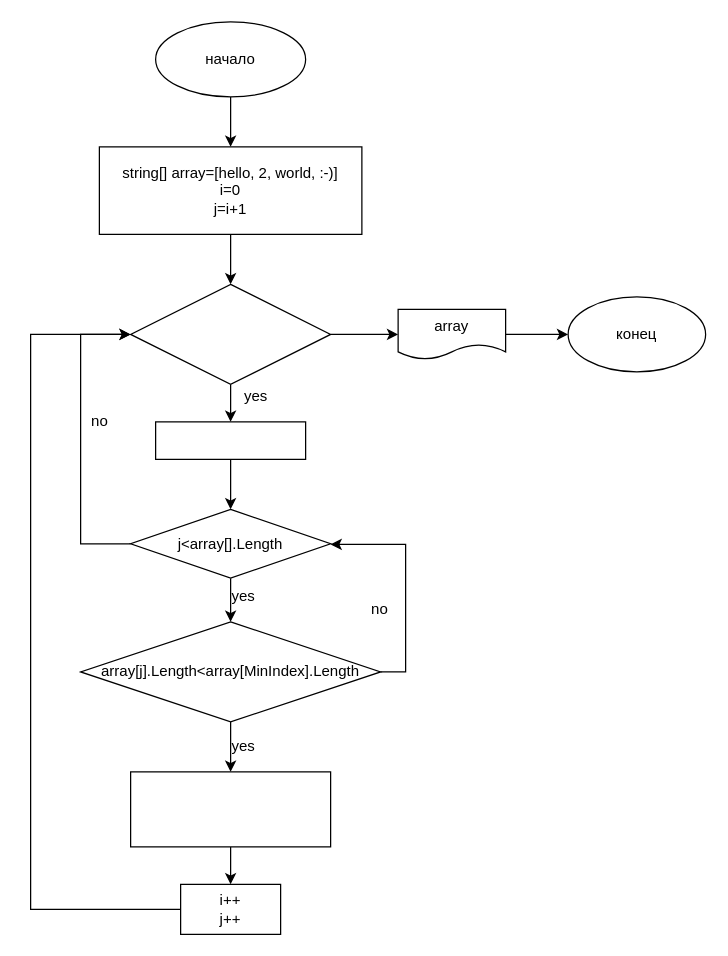
Some shapes in this 728 by 956 pixel diagram are drawn without their labels. The shapes that lost their labels are listed below. From the top down, each one's centre as x and y in pixels, then its label:
At point (230, 333): "i< array[].Length-1".
At point (230, 440): "MinIndex=i".
At point (230, 809): "MinIndex=j temp=array[MinIndex] array[MinIndex]=array[i] array[i]=temp".
